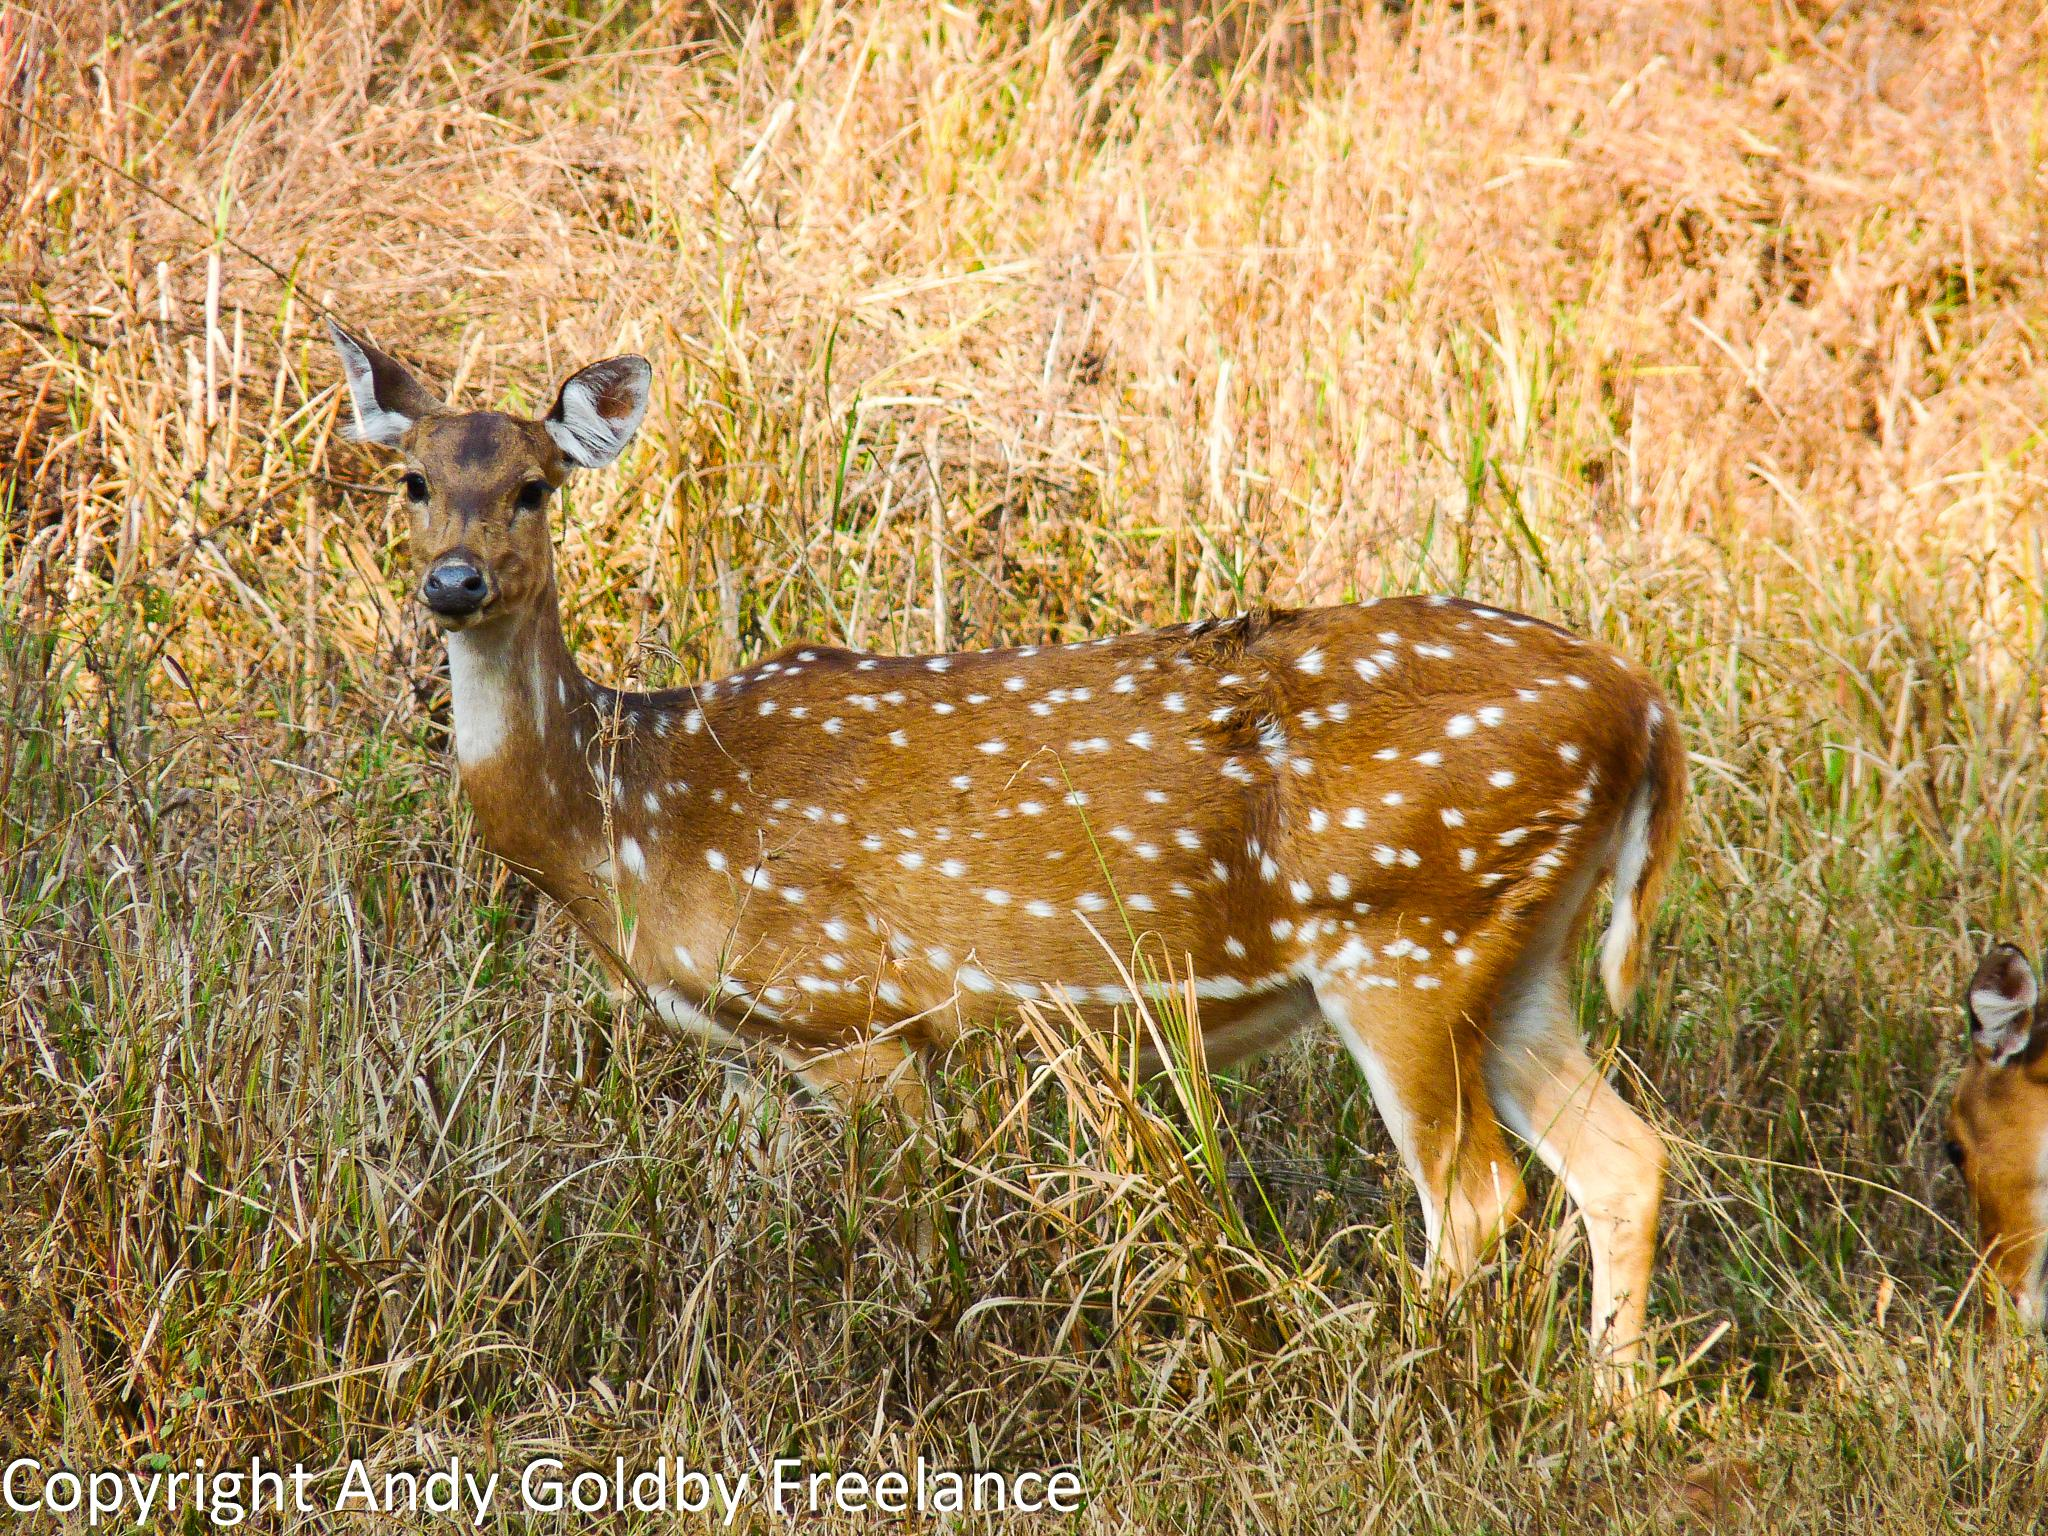Deer: (331, 324, 1685, 1375), (1946, 945, 2046, 1328)
